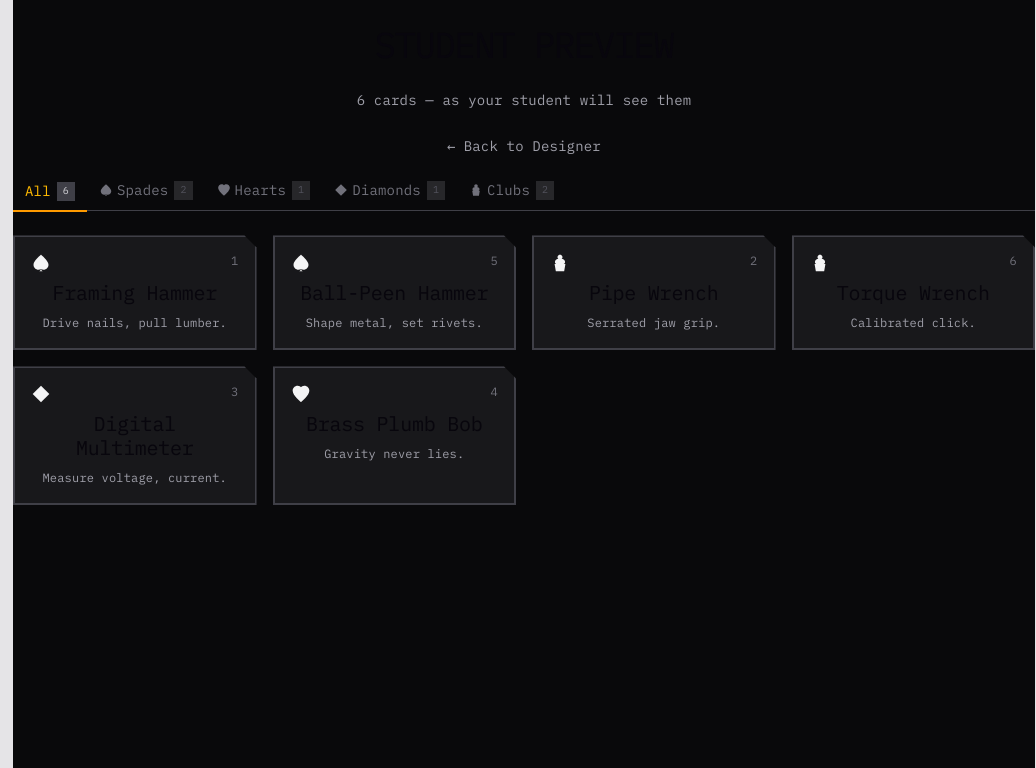
Test: Showcase › filters to clubs cards when clubs tab is selected
The width and height of the screenshot is (1036, 768).
What coordinates should you click on to do the following:
click the tab "Clubs 2"
I would click on:
 (512, 191)
Its box is [457,172,566,210].
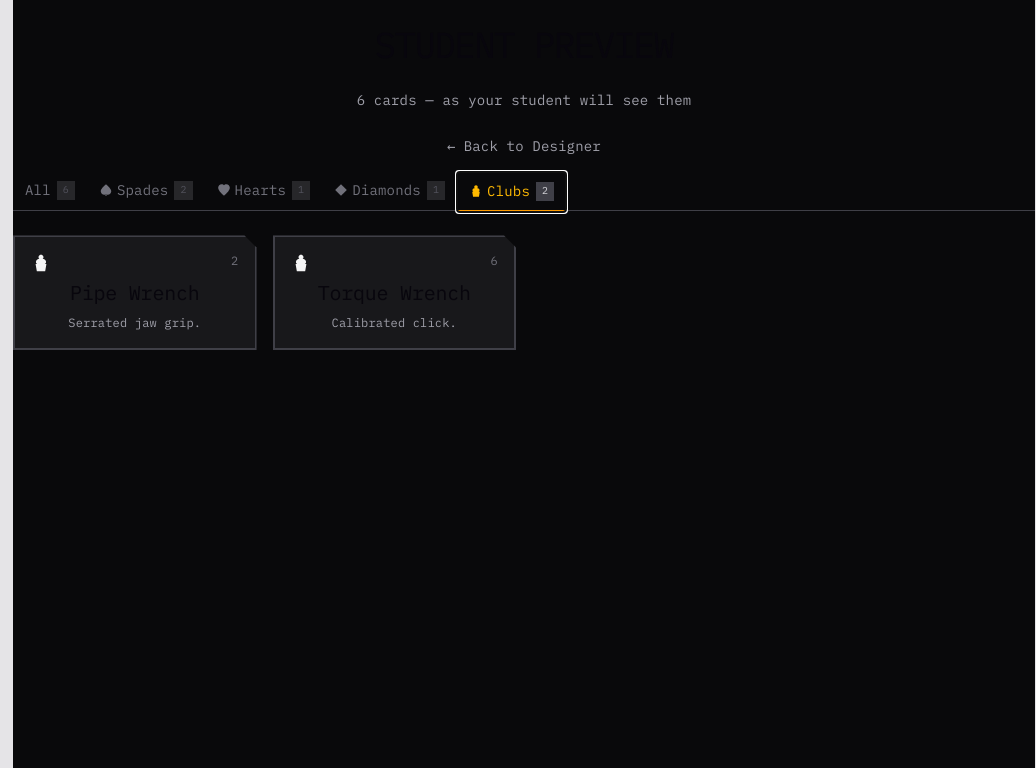
expect the number of list items is 2: met, box [13,235,256,350]; [272,235,516,350]
